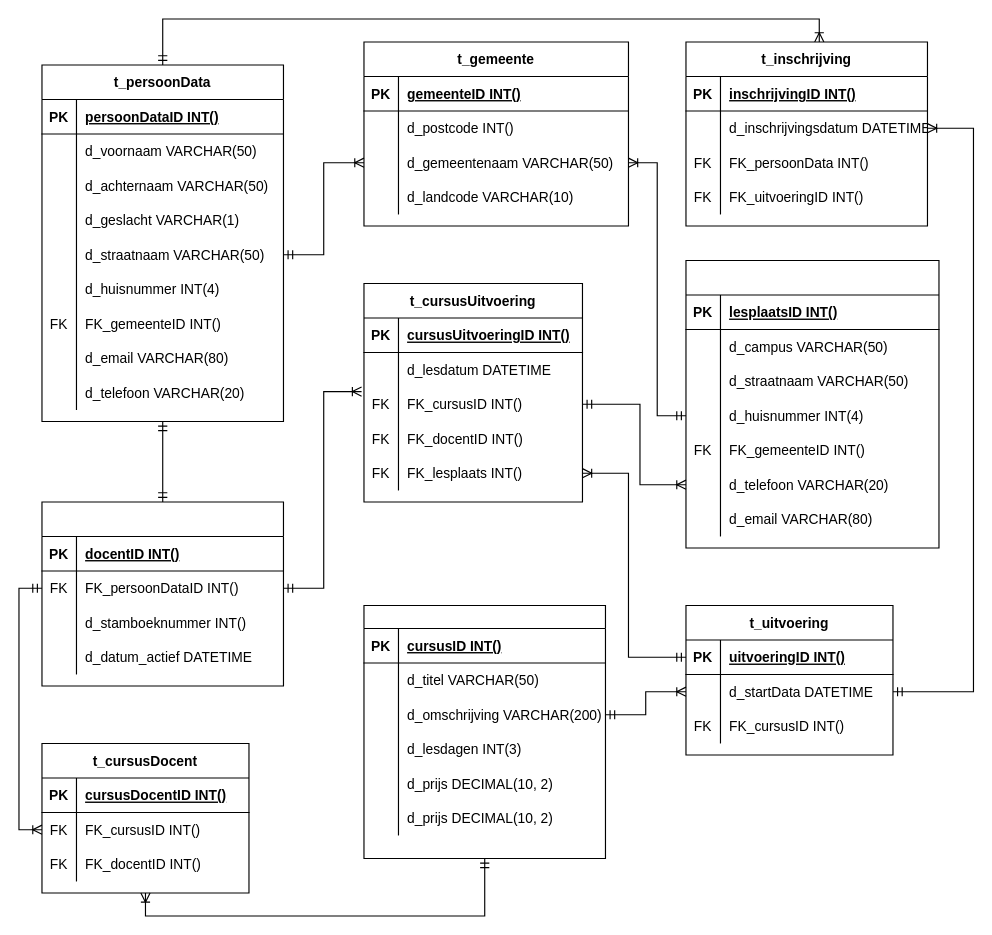
The diagram is 992 pixels wide and 935 high, and some of its shapes have lost their labels. The box of each missing label's shape, as (x1, y1, x2, y2) in pixels:
t_cursus: (363, 604, 605, 858)
t_docent: (41, 501, 283, 686)
t_lesplaats: (685, 259, 939, 548)
